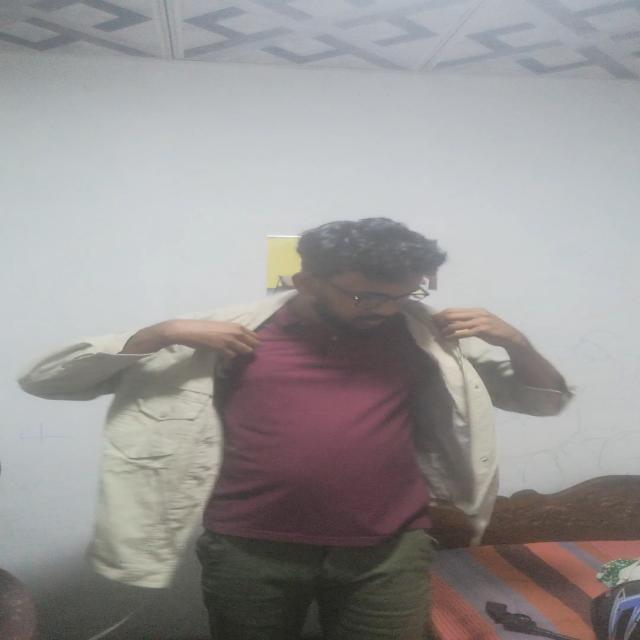Jacket_Wearer: (31, 306, 568, 552)
Person: (41, 213, 544, 640)
